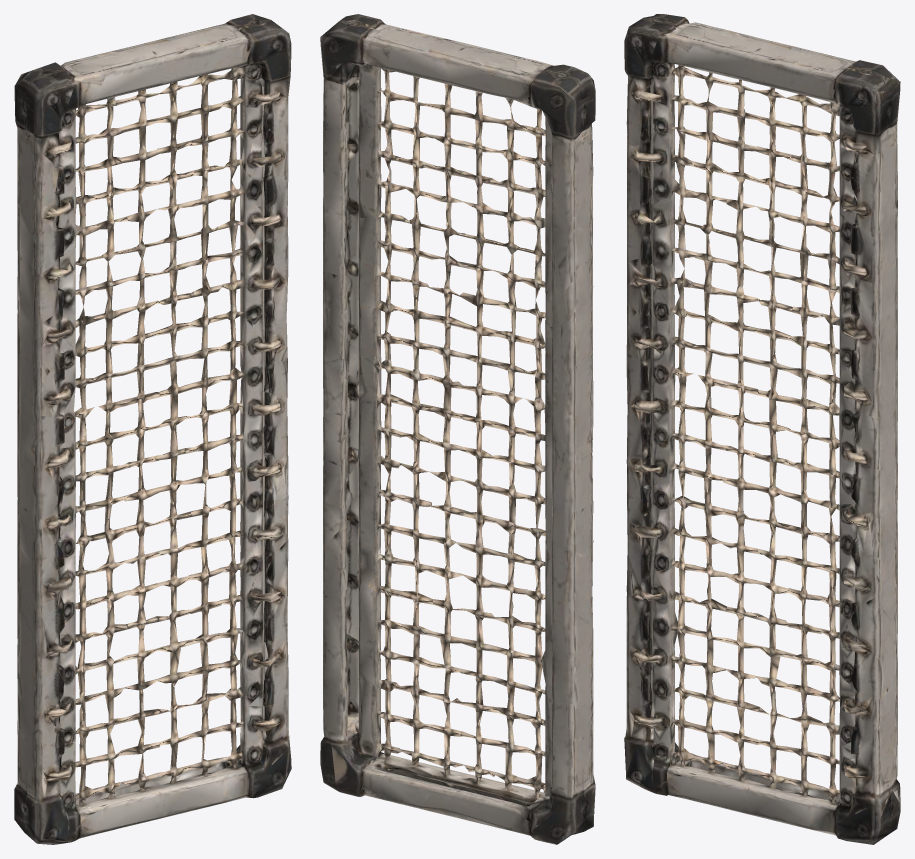
Rendered from obstacle-wall-net.glb.
3 renders of one model, left to right at view 1: azimuth 30°, elevation 25°; view 2: azimuth 150°, elevation 25°; view 3: azimuth 330°, elevation 25°, orthographic.
Bounding box in the file's own units: 0.668 × 1.9 × 0.129.
1 material, 1 textured.
